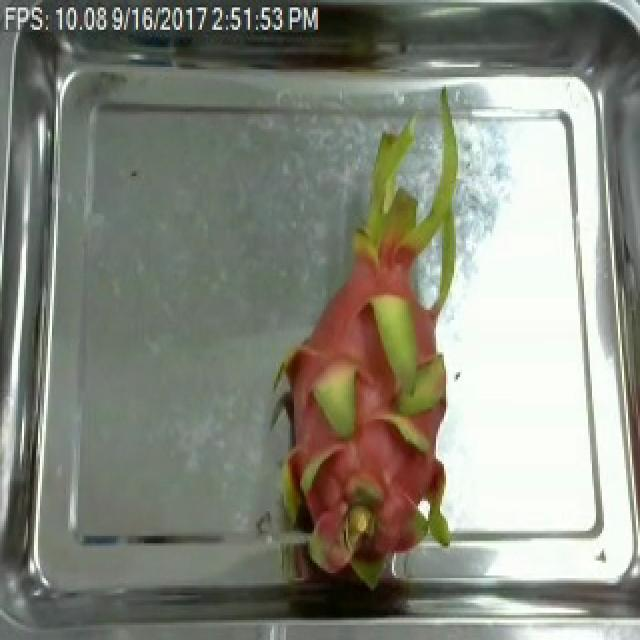fruit: (244, 164, 496, 598)
